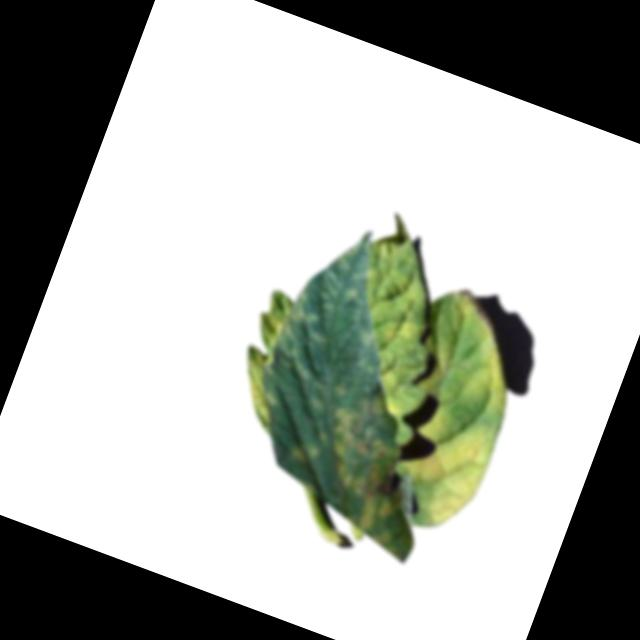Leaf_Mold: (298, 380, 444, 553), (390, 403, 509, 538), (459, 337, 529, 417), (379, 311, 426, 359)
